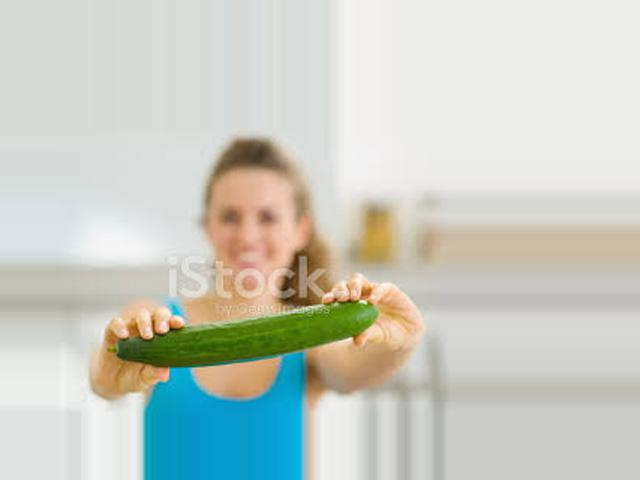cucumber: (108, 303, 379, 368)
